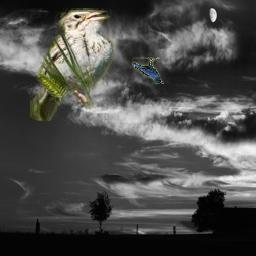Crow: (132, 58, 164, 85)
Sparrow: (31, 9, 116, 122)
